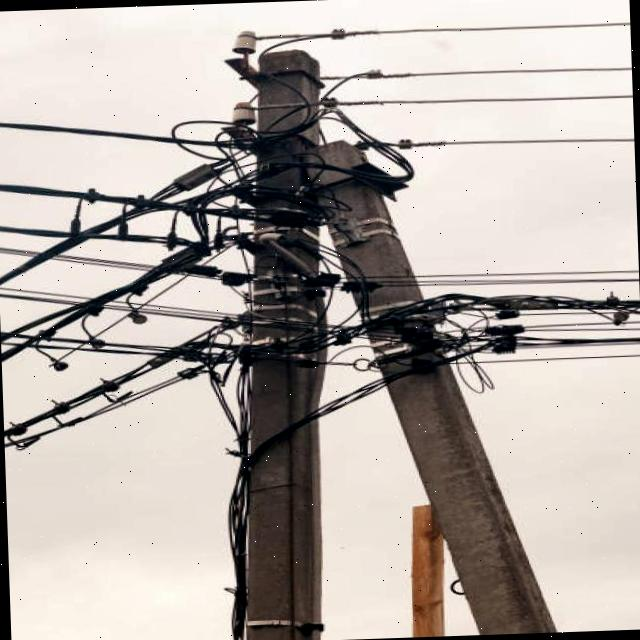Broken Pole: (300, 137, 570, 635)
